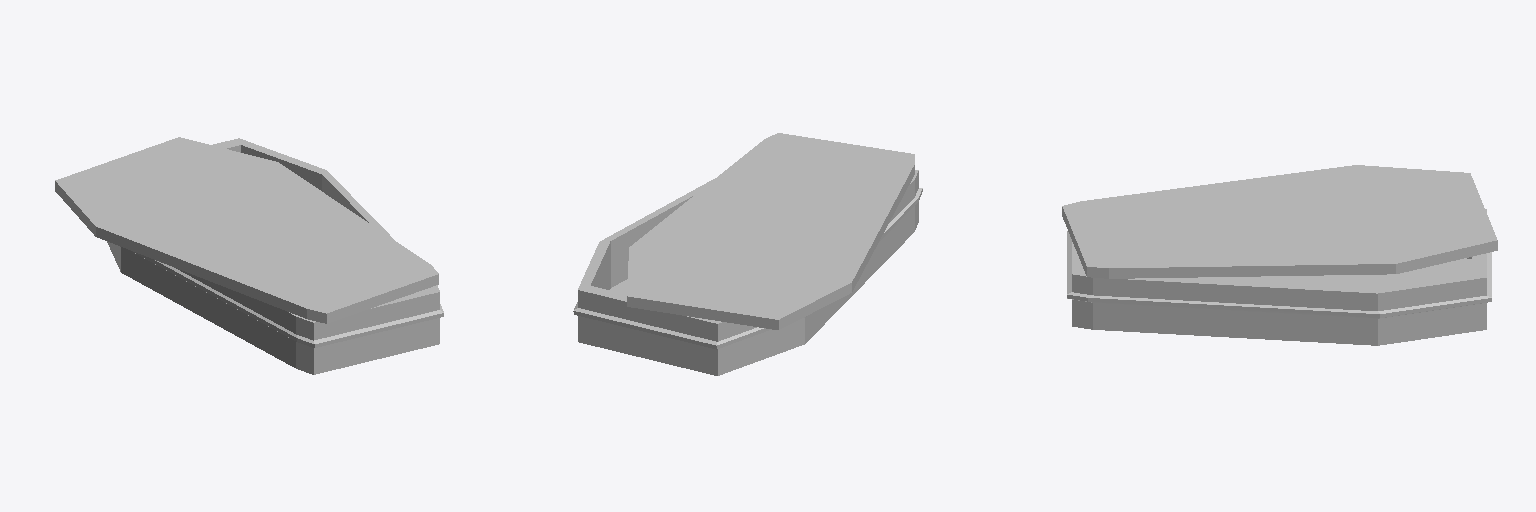
Rendered from Coffin_skewed.obj.
The picture shows the model from 3 angles: view 1: azimuth 30°, elevation 25°; view 2: azimuth 150°, elevation 25°; view 3: azimuth 270°, elevation 25°; orthographic projection.
Visible parts, largest first — view 1: Coffin_top, pCube39; view 2: Coffin_top, pCube39; view 3: Coffin_top, pCube39.
Boxes of the visible parts, box(x1,y1,x2,y2) form: Coffin_top: box(55, 137, 438, 323); pCube39: box(107, 138, 443, 374); Coffin_top: box(627, 133, 914, 329); pCube39: box(573, 170, 922, 375); Coffin_top: box(1062, 165, 1497, 278); pCube39: box(1067, 209, 1491, 345).
Bounding box in the file's own units: 1222 × 301 × 1887.